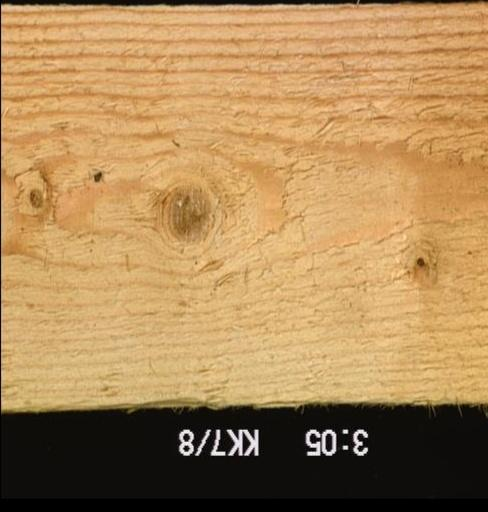small_knot: (404, 250, 434, 276), (85, 162, 107, 191)
sound_knot: (156, 183, 216, 250), (7, 163, 55, 219)
split: (196, 393, 304, 407)
